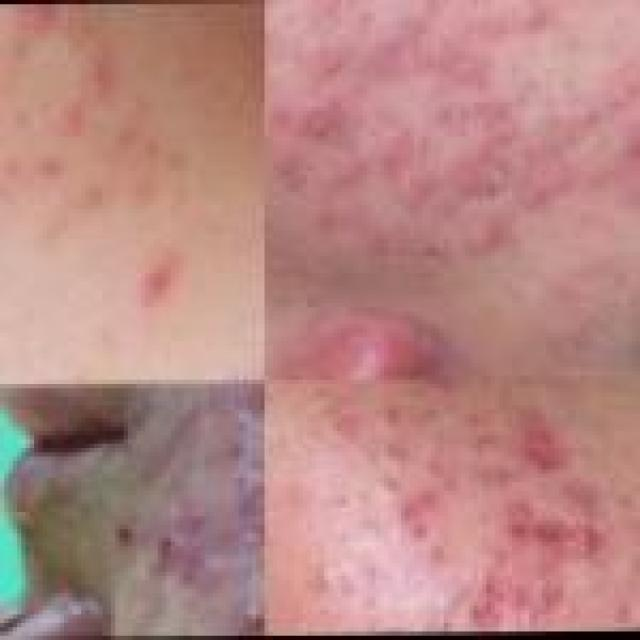cyst: (317, 291, 485, 385), (34, 88, 105, 154), (145, 513, 228, 566), (135, 266, 184, 333), (0, 9, 82, 43), (239, 596, 264, 633)
